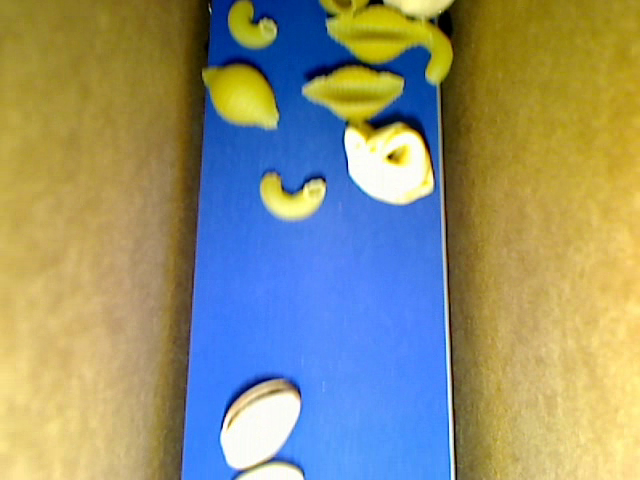elbow: (258, 171, 326, 222), (411, 19, 453, 86), (227, 1, 277, 51)
shell: (325, 6, 429, 64), (300, 65, 403, 123), (202, 64, 280, 130), (319, 1, 369, 20)
tortellini: (342, 120, 435, 206)
